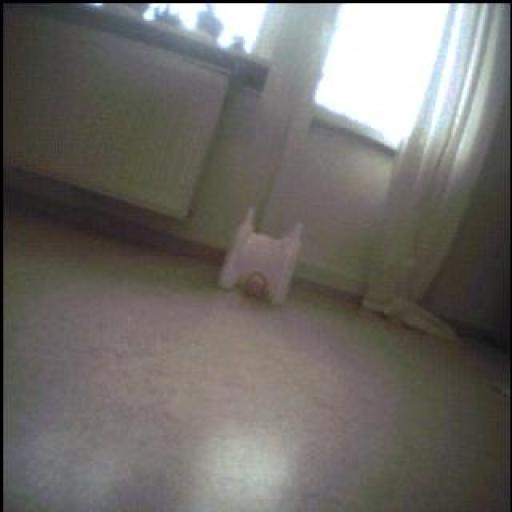Basket: (246, 272, 269, 301)
